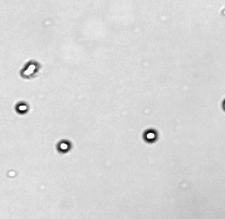Living Cell: (20, 60, 40, 79), (143, 129, 159, 143), (56, 139, 71, 153), (15, 101, 30, 114)
